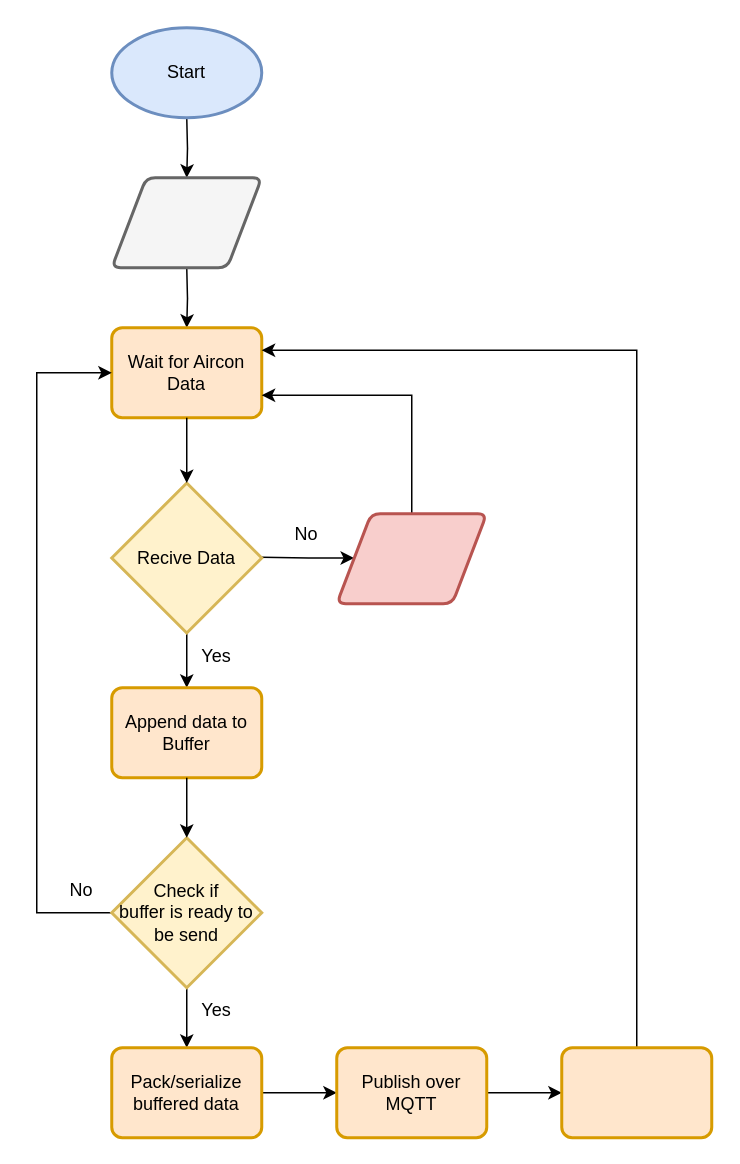
This 740x1164 diagram has some shape labels left out. Each missing label, with the box of its shape:
Clear Buffer: (560, 1046, 712, 1138)
ERROR!: (334, 512, 488, 604)
Power ON: (110, 176, 262, 268)
